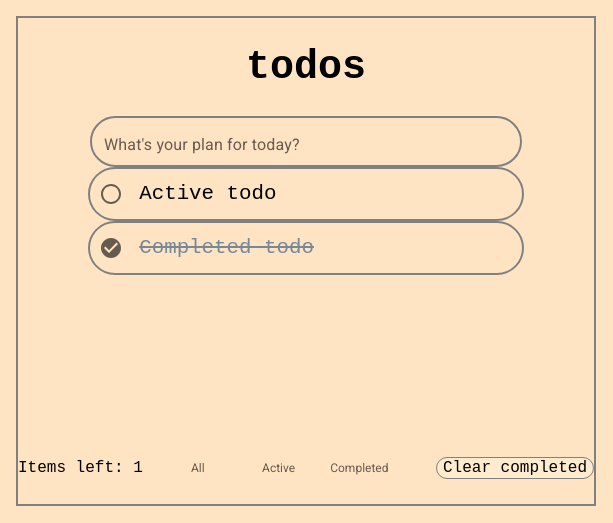
Test: App tests › should filter out Active todo items when Completed filter is selected
The image size is (613, 523).
Click the button "Completed" at (359, 468), box left=319, top=440, right=400, bottom=496
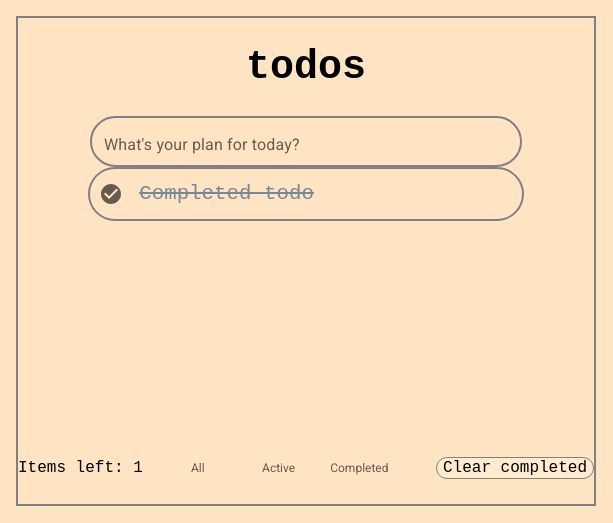
Expected: the text "Completed todo" is shown, left=139, top=182, right=314, bottom=205
Expected: the text "Active todo" is gone
